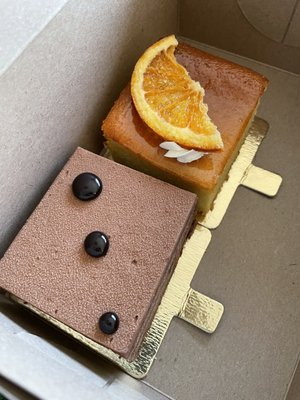taco: (130, 34, 223, 151)
